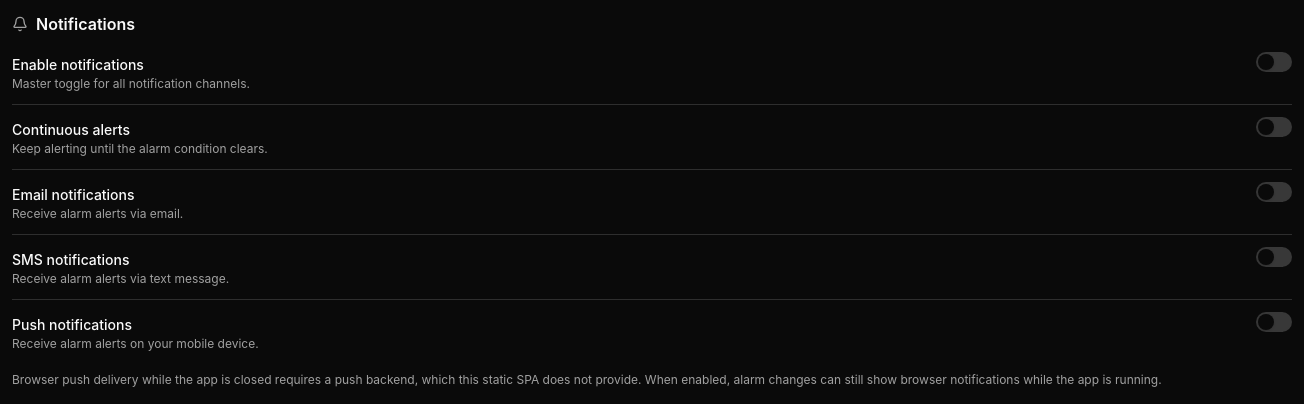
Test case: NotificationPrefs › disabled state during save › disables all toggles while a save is in progress
The width and height of the screenshot is (1304, 404).
What coordinates should you click on to do the following:
click the switch named "enable notifications" in the row of "Enable notifications"
I would click on:
 (1274, 62)
Its box is [1256,52,1292,72].
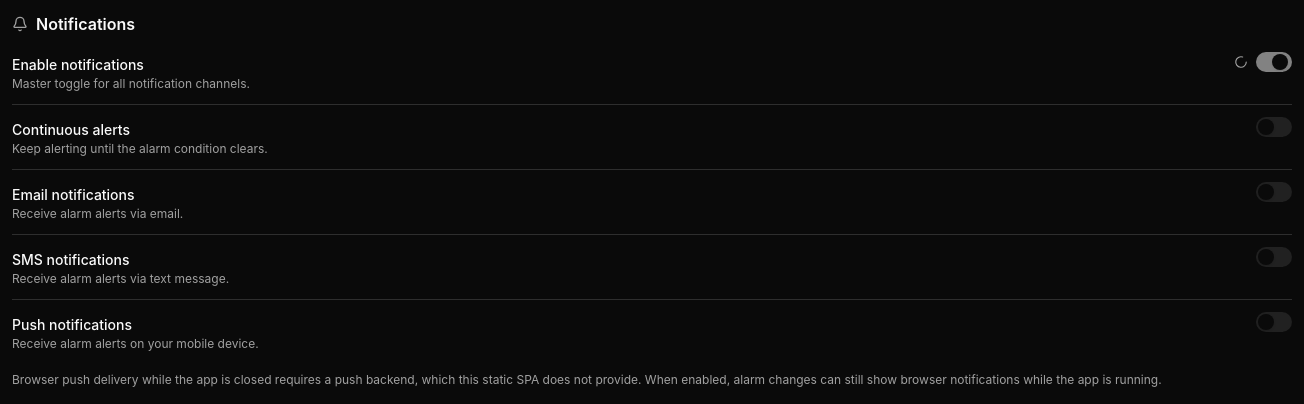
Result: the switch in the row of "Enable notifications" is disabled at [1256,52,1292,72]
